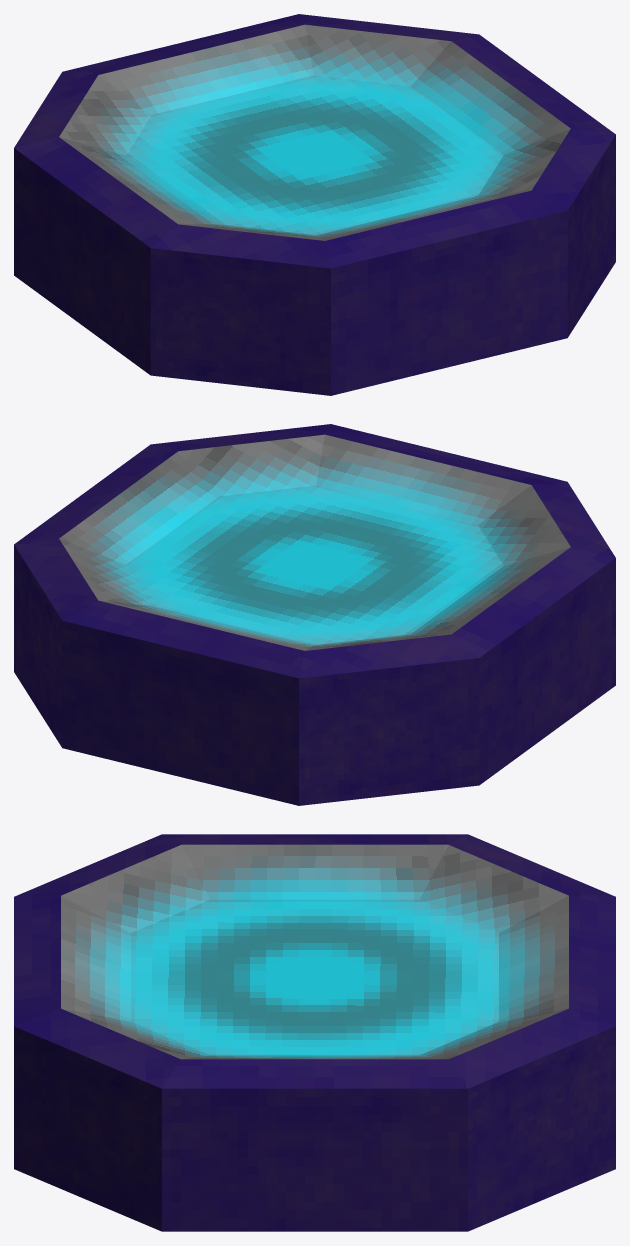
File: JumpPad.fbx
3 views of the same model, one above another, from view 1: azimuth 30°, elevation 25°; view 2: azimuth 150°, elevation 25°; view 3: azimuth 270°, elevation 25° (orthographic). The views are drawn at different scales.
Parts seen in each view (by area): view 1: Jump Pad; view 2: Jump Pad; view 3: Jump Pad.
Part boxes in pixels (x1=…): Jump Pad: x1=14, y1=14, x2=615, y2=395; Jump Pad: x1=14, y1=424, x2=615, y2=805; Jump Pad: x1=14, y1=834, x2=615, y2=1231.
Bounding box in the file's own units: 595 × 207 × 595.
